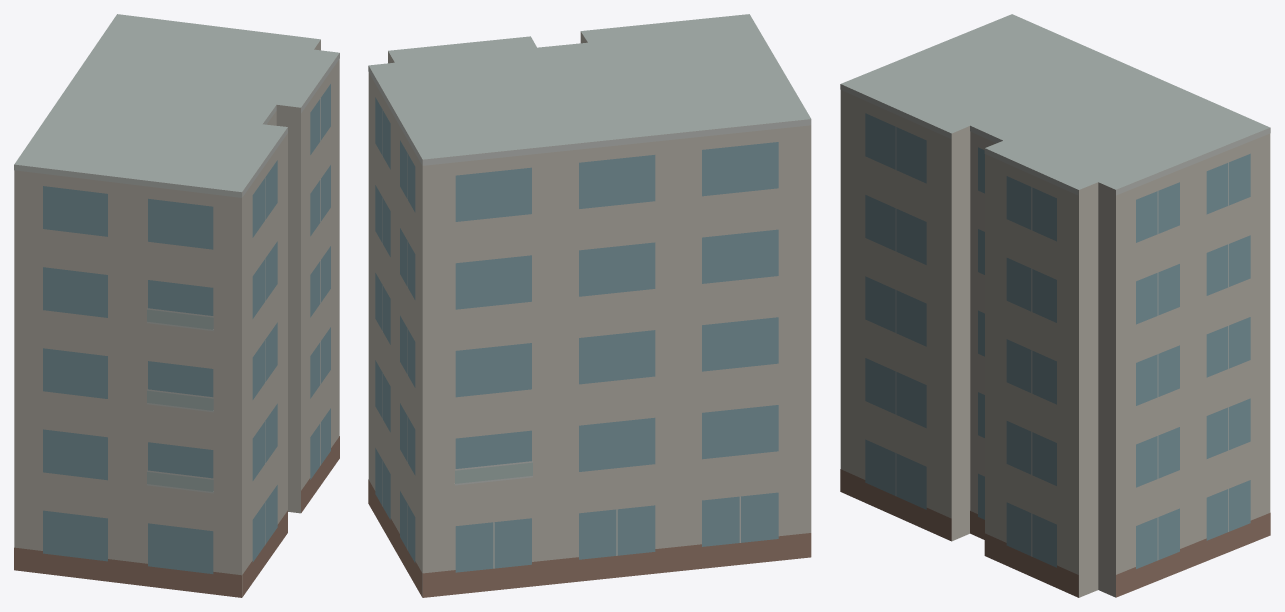
The model's file is survey-upis-32936662.glb.
3 views of the same model, side by side, from view 1: azimuth 30°, elevation 25°; view 2: azimuth 150°, elevation 25°; view 3: azimuth 270°, elevation 25° (orthographic). The views are drawn at different scales.
Parts seen in each view (by area): view 1: survey-upis-32936662.tmp; view 2: survey-upis-32936662.tmp; view 3: survey-upis-32936662.tmp.
Part boxes in pixels (<box>): survey-upis-32936662.tmp: <box>14,14,339,597</box>; survey-upis-32936662.tmp: <box>368,14,811,597</box>; survey-upis-32936662.tmp: <box>840,14,1270,597</box>.
Bounding box in the file's own units: 15.93 × 17.2 × 16.44.
